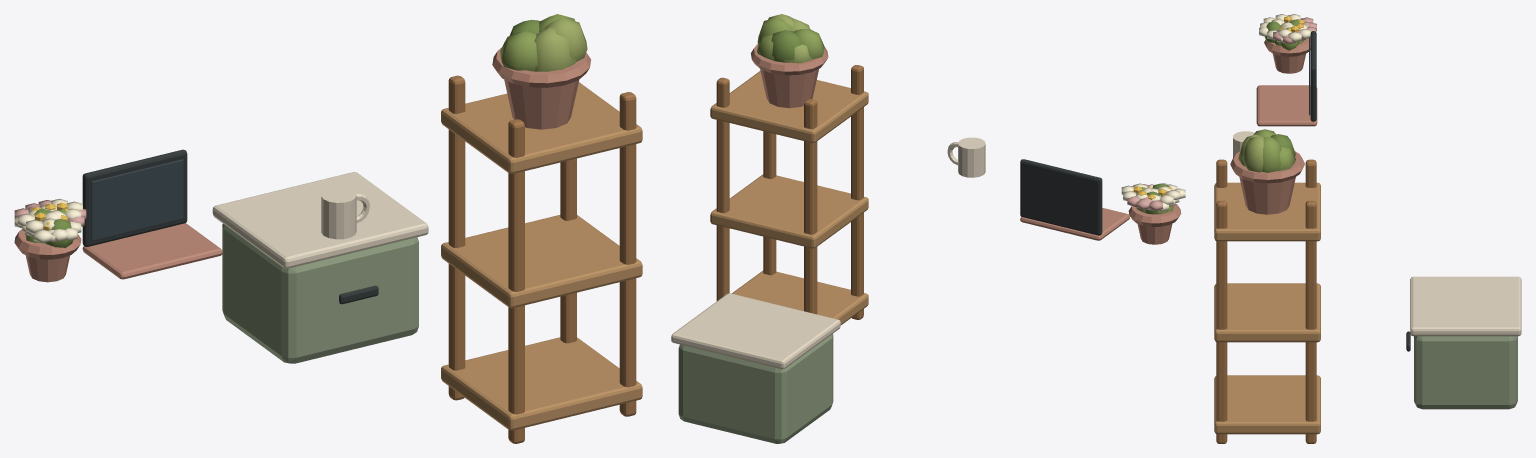
Rendered from SM_CreatorCoupleHouse_RecordingProps.fbx.
The picture shows the model from 3 angles, left to right: view 1: azimuth 30°, elevation 25°; view 2: azimuth 150°, elevation 25°; view 3: azimuth 270°, elevation 25°; orthographic projection. The views are drawn at different scales.
Visible parts, largest first — view 1: SM_CreatorCoupleHouse_RecordingProps; view 2: SM_CreatorCoupleHouse_RecordingProps; view 3: SM_CreatorCoupleHouse_RecordingProps.
Boxes of the visible parts, x1,y1,x2,y2 form: SM_CreatorCoupleHouse_RecordingProps: [14, 14, 642, 443]; SM_CreatorCoupleHouse_RecordingProps: [671, 14, 1185, 443]; SM_CreatorCoupleHouse_RecordingProps: [1214, 14, 1521, 443].
Size of what is drawn, in the model's own units: 207 by 127 by 133.
